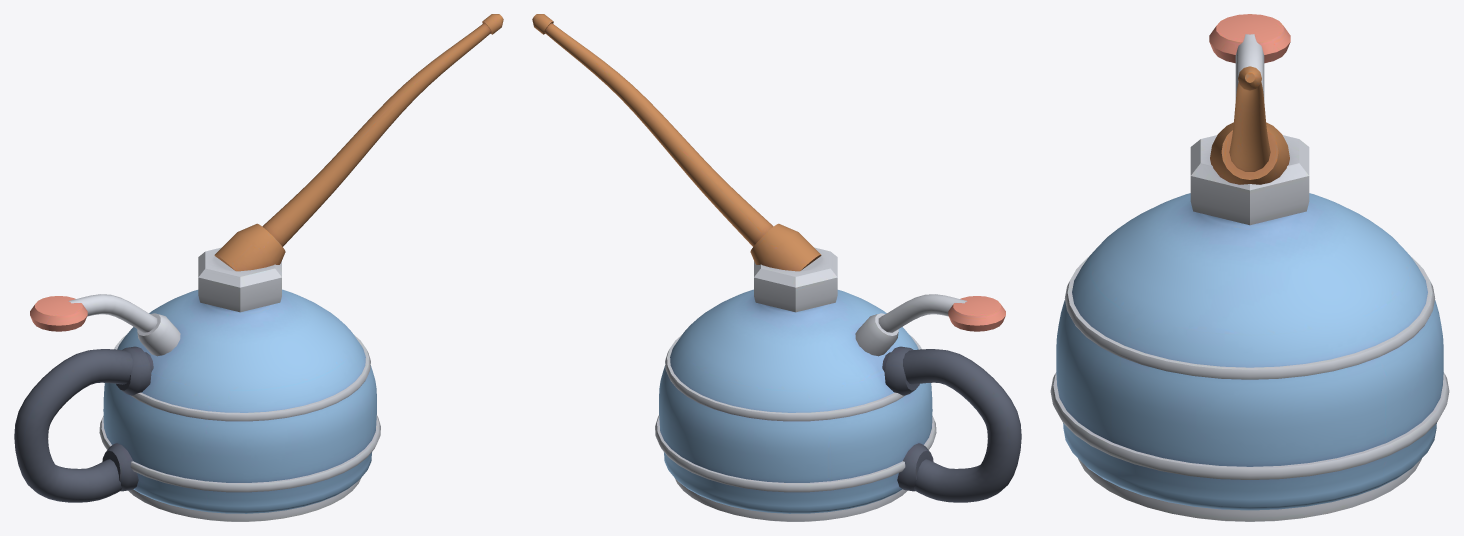
File: oil-can.glb
3 renders of one model, left to right at view 1: azimuth 30°, elevation 25°; view 2: azimuth 150°, elevation 25°; view 3: azimuth 270°, elevation 25°, orthographic. The views are drawn at different scales.
Visible parts, largest first — view 1: oil-can_body; view 2: oil-can_body; view 3: oil-can_body.
Boxes of the visible parts, x1,y1,x2,y2 form: oil-can_body: (14,14,503,521); oil-can_body: (532,14,1021,521); oil-can_body: (1050,14,1449,521).
Bounding box in the file's own units: 0.2787 × 0.2175 × 0.14.
1 material, 1 textured.
